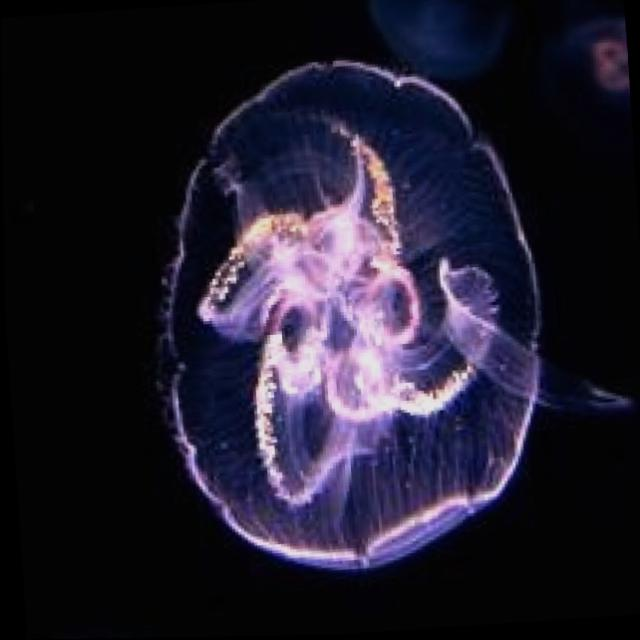Moon-jellyfish: (131, 40, 639, 588)
